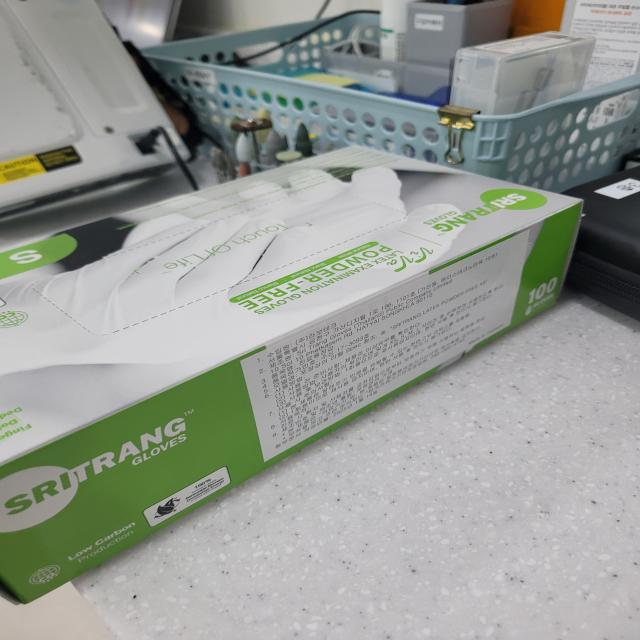glove: (0, 154, 599, 585)
